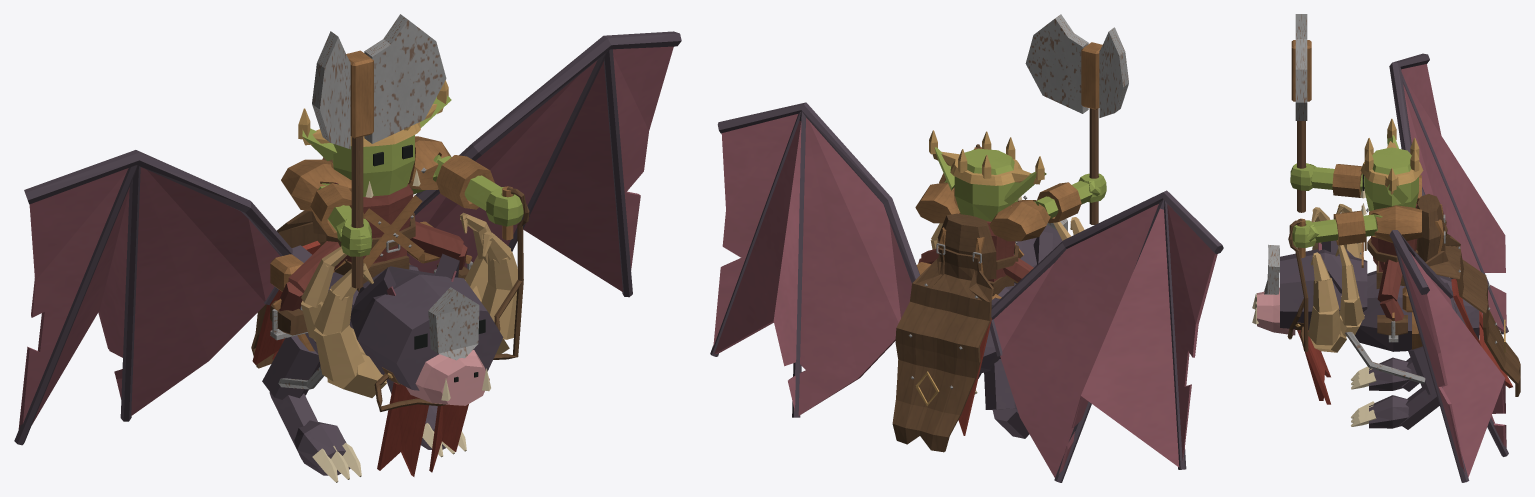
Rendered from host_30.glb.
3 renders of one model, left to right at view 1: azimuth 30°, elevation 25°; view 2: azimuth 150°, elevation 25°; view 3: azimuth 270°, elevation 25°, orthographic. The views are drawn at different scales.
Parts seen in each view (by area): view 1: Bat source connected muzzle, skull, native limbs and membran, Rider one connected body, skull, ears, two arms, compact pal, Rider RIGHT source weapon broad double source axe crescent -, Rider RIGHT source weapon broad double source axe crescent 1, Storm lord bat real pointed steel forehead field, Storm lord source hanging red throat cloth 1, Rider RIGHT source weapon source actual heavy axe central so, Rider actual convex three-plane source pauldron 1, Rider LEFT actual open sleeve cuff, Rider RIGHT source weapon actual wood handle, Rider real shaped source torso clothing shell, Source storm lord substantial long rear armored leather taba (+10 smaller); view 2: Bat source connected muzzle, skull, native limbs and membran, Source storm lord substantial long rear armored leather taba, Rider one connected body, skull, ears, two arms, compact pal, Rider RIGHT source weapon broad double source axe crescent -, Rider RIGHT source weapon broad double source axe crescent 1, Rider actual source broad rear leather pack, Rider actual convex three-plane source pauldron 1, Rider actual convex three-plane source pauldron -1, Rider RIGHT source weapon source actual heavy axe central so, Rider closed source crown band, Rider RIGHT actual open sleeve cuff, Rider RIGHT source weapon actual wood handle (+1 smaller); view 3: Bat source connected muzzle, skull, native limbs and membran, Rider one connected body, skull, ears, two arms, compact pal, Source storm lord substantial long rear armored leather taba, Rider actual convex three-plane source pauldron -1, Rider actual source broad rear leather pack, Rider RIGHT source weapon broad double source axe crescent -, Rider LEFT actual open sleeve cuff, Rider RIGHT actual open sleeve cuff, Storm lord source ragged rear red saddle cloth -1, Storm lord actual exterior saddle chain -1, Rider closed source crown band, Storm lord bat real pointed steel forehead field (+9 smaller).
Part boxes in pixels (x1,y1,x2,y2): Bat source connected muzzle, skull, native limbs and membran: (14,31,681,482); Rider one connected body, skull, ears, two arms, compact pal: (270,95,523,335); Rider RIGHT source weapon broad double source axe crescent -: (364,14,446,143); Rider RIGHT source weapon broad double source axe crescent 1: (312,31,350,149); Storm lord bat real pointed steel forehead field: (428,287,479,360); Storm lord source hanging red throat cloth 1: (377,382,428,476); Rider RIGHT source weapon source actual heavy axe central so: (346,50,373,138); Rider actual convex three-plane source pauldron 1: (281,159,351,211); Rider LEFT actual open sleeve cuff: (436,155,494,209); Rider RIGHT source weapon actual wood handle: (351,136,363,288); Rider real shaped source torso clothing shell: (334,182,413,261); Source storm lord substantial long rear armored leather taba: (251,210,326,368); Bat source connected muzzle, skull, native limbs and membran: (710,102,1223,482); Source storm lord substantial long rear armored leather taba: (892,248,993,452); Rider one connected body, skull, ears, two arms, compact pal: (918,147,1106,282); Rider RIGHT source weapon broad double source axe crescent -: (1025,14,1088,113); Rider RIGHT source weapon broad double source axe crescent 1: (1099,27,1128,117); Rider actual source broad rear leather pack: (937,213,996,279); Rider actual convex three-plane source pauldron 1: (989,200,1050,241); Rider actual convex three-plane source pauldron -1: (915,182,960,223); Rider RIGHT source weapon source actual heavy axe central so: (1081,42,1102,109); Rider closed source crown band: (932,151,1040,185); Rider RIGHT actual open sleeve cuff: (1037,182,1081,223); Rider RIGHT source weapon actual wood handle: (1089,108,1098,224); Bat source connected muzzle, skull, native limbs and membran: (1257,53,1508,482); Rider one connected body, skull, ears, two arms, compact pal: (1290,134,1418,335); Source storm lord substantial long rear armored leather taba: (1425,220,1520,396); Rider actual convex three-plane source pauldron -1: (1369,205,1421,242); Rider actual source broad rear leather pack: (1416,194,1444,261); Rider RIGHT source weapon broad double source axe crescent -: (1295,39,1307,120); Rider LEFT actual open sleeve cuff: (1333,210,1365,245); Rider RIGHT actual open sleeve cuff: (1332,164,1362,197); Storm lord source ragged rear red saddle cloth -1: (1451,278,1512,388); Storm lord actual exterior saddle chain -1: (1345,332,1425,383); Rider closed source crown band: (1360,141,1423,194); Storm lord bat real pointed steel forehead field: (1264,244,1279,294).
Size of the model in its own units: 8.7 by 6.21 by 4.22.
Materials: 39 (38 with a texture image).
